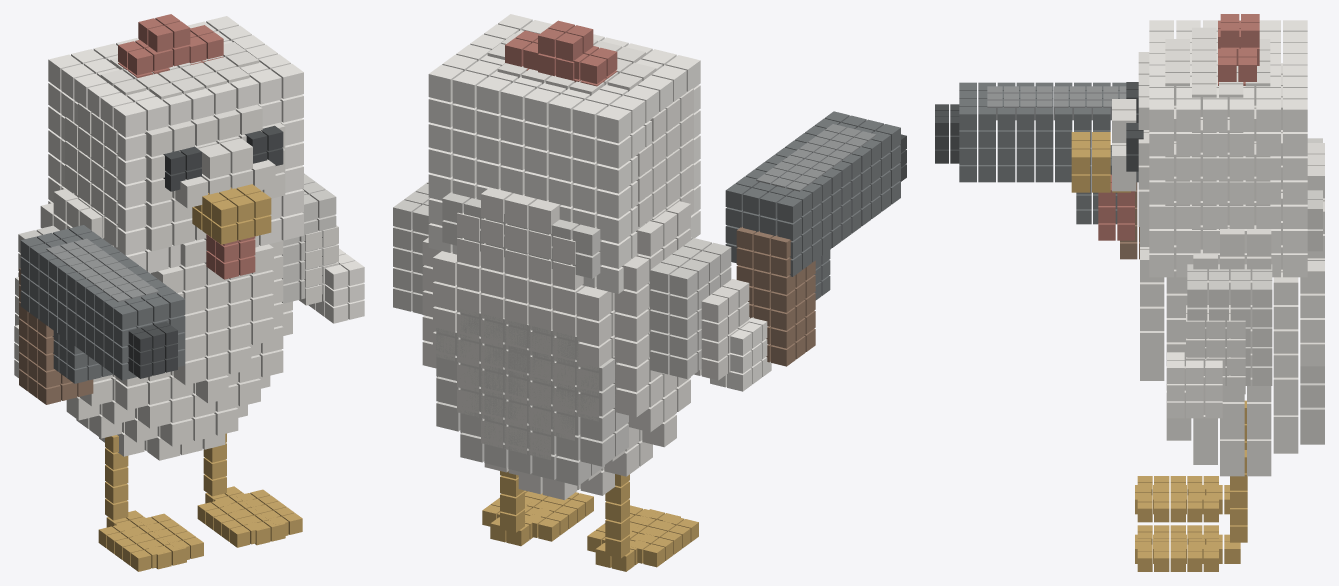
The model's file is white_chicken_v3.glb.
The picture shows the model from 3 angles, left to right: view 1: azimuth 30°, elevation 25°; view 2: azimuth 150°, elevation 25°; view 3: azimuth 270°, elevation 25°; orthographic projection. The views are drawn at different scales.
Visible parts, largest first — view 1: warmwhite, light, ochre, gun, brickred, black, wood, greywhite, gunhi; view 2: warmwhite, light, greywhite, gun, ochre, wood, brickred, gunhi; view 3: warmwhite, light, ochre, gun, greywhite, brickred, gunhi, black, wood.
Part boxes in pixels (bbox=[...]): warmwhite: bbox=[15, 42, 338, 460]; light: bbox=[14, 16, 364, 377]; ochre: bbox=[98, 184, 302, 571]; gun: bbox=[20, 225, 185, 383]; brickred: bbox=[118, 14, 255, 279]; black: bbox=[127, 125, 283, 378]; wood: bbox=[19, 268, 93, 404]; greywhite: bbox=[18, 173, 336, 303]; gunhi: bbox=[46, 238, 158, 302]; warmwhite: bbox=[422, 33, 749, 500]; light: bbox=[428, 14, 771, 391]; greywhite: bbox=[393, 181, 731, 485]; gun: bbox=[725, 111, 900, 300]; ochre: bbox=[482, 471, 698, 571]; wood: bbox=[736, 227, 815, 366]; brickred: bbox=[505, 20, 617, 86]; gunhi: bbox=[756, 124, 876, 191]; warmwhite: bbox=[1112, 27, 1324, 476]; light: bbox=[1149, 20, 1307, 418]; ochre: bbox=[1071, 132, 1247, 571]; gun: bbox=[959, 82, 1138, 224]; greywhite: bbox=[1187, 138, 1324, 444]; brickred: bbox=[1098, 14, 1259, 240]; gunhi: bbox=[987, 86, 1126, 120]; black: bbox=[935, 82, 1143, 171]; wood: bbox=[1120, 182, 1139, 259].
Size of the model in its own units: 1.6 by 2.19 by 1.53.
